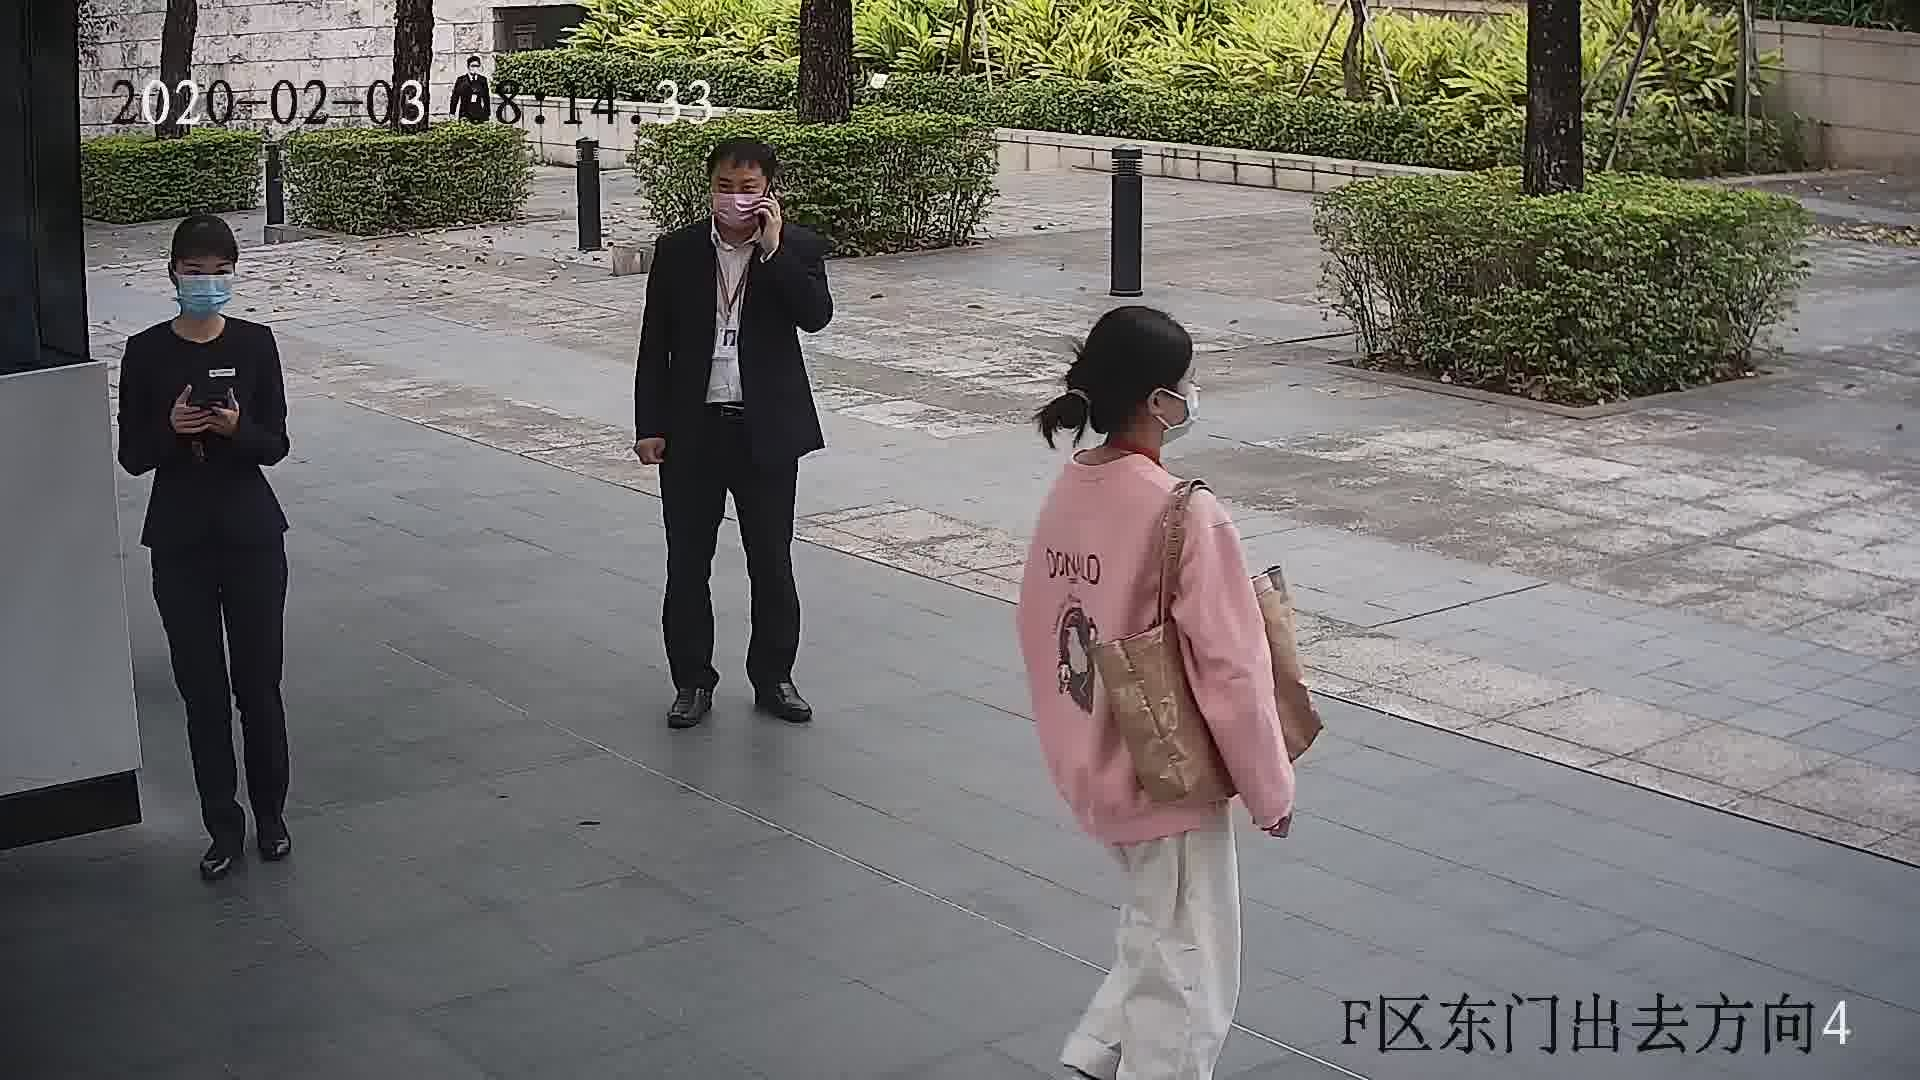face: (1145, 350, 1208, 447), (168, 243, 239, 313), (705, 171, 767, 233)
mask: (708, 189, 767, 233), (177, 271, 235, 316), (1161, 385, 1199, 443)
person: (1032, 300, 1237, 557), (653, 137, 826, 283), (125, 214, 277, 378)
